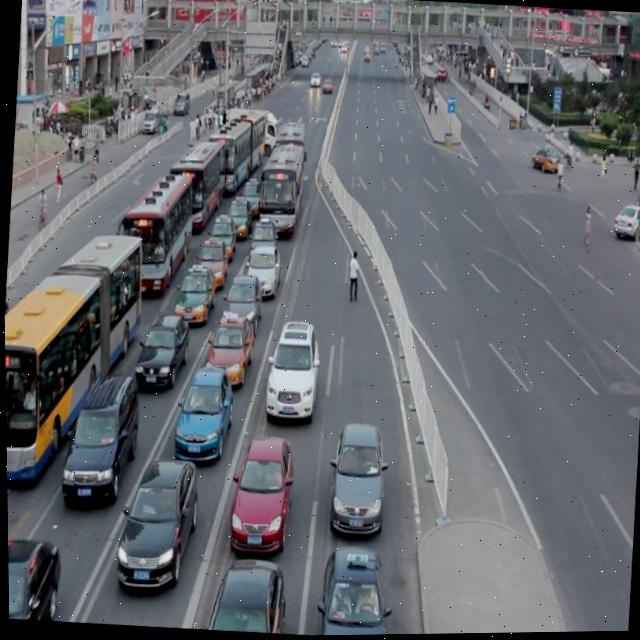bus: (223, 105, 280, 156)
car: (113, 453, 198, 589), (57, 370, 141, 505), (225, 432, 295, 553), (324, 420, 390, 536), (310, 546, 394, 636), (199, 553, 285, 635), (261, 318, 322, 423), (171, 365, 234, 463), (6, 531, 62, 621), (134, 311, 191, 386), (203, 309, 255, 384), (219, 272, 264, 334), (172, 264, 217, 326), (240, 244, 281, 298), (191, 235, 229, 290), (205, 212, 238, 261), (245, 217, 279, 263), (608, 202, 640, 239), (225, 196, 252, 239), (236, 176, 263, 218), (529, 144, 560, 175)
van: (3, 223, 147, 489), (113, 172, 196, 293), (203, 104, 267, 197), (164, 141, 228, 232), (253, 143, 306, 238), (269, 121, 309, 184)
